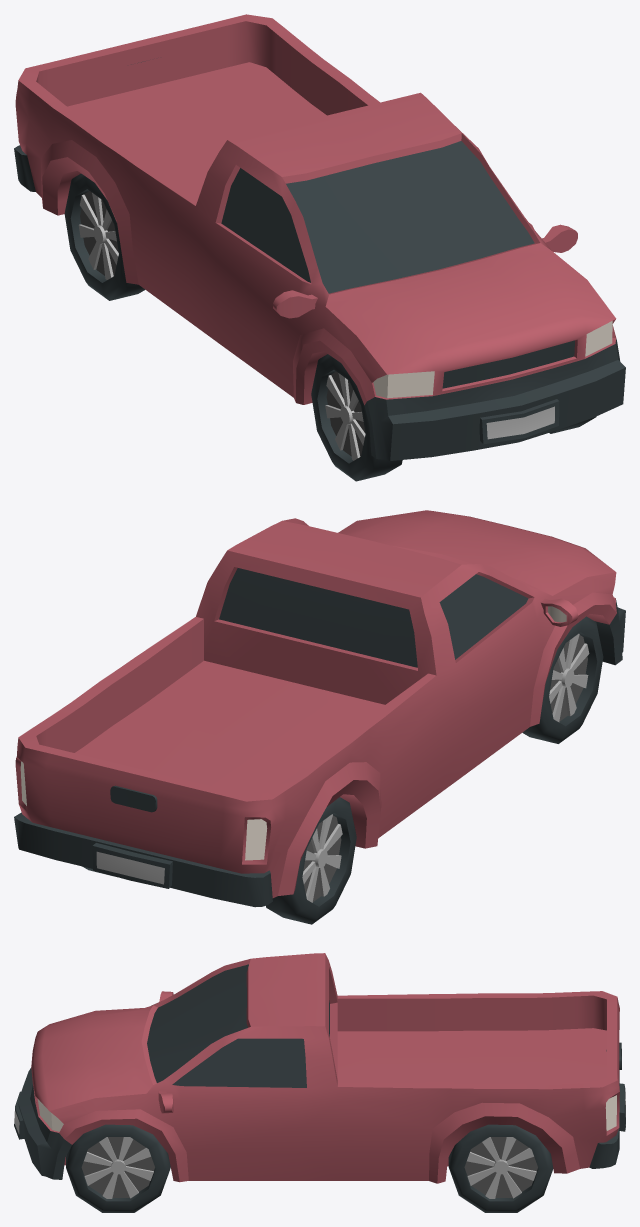
Rendered from Car_03.fbx.
3 views of the same model, one above another, from view 1: azimuth 30°, elevation 25°; view 2: azimuth 150°, elevation 25°; view 3: azimuth 270°, elevation 25° (orthographic). The views are drawn at different scales.
Visible parts, largest first — view 1: Car_03; view 2: Car_03; view 3: Car_03.
Boxes of the visible parts, x1,y1,x2,y2 form: Car_03: (14,14,625,481); Car_03: (14,510,625,924); Car_03: (14,953,625,1212).
Bounding box in the file's own units: 0.2057 × 0.1519 × 0.4661.
